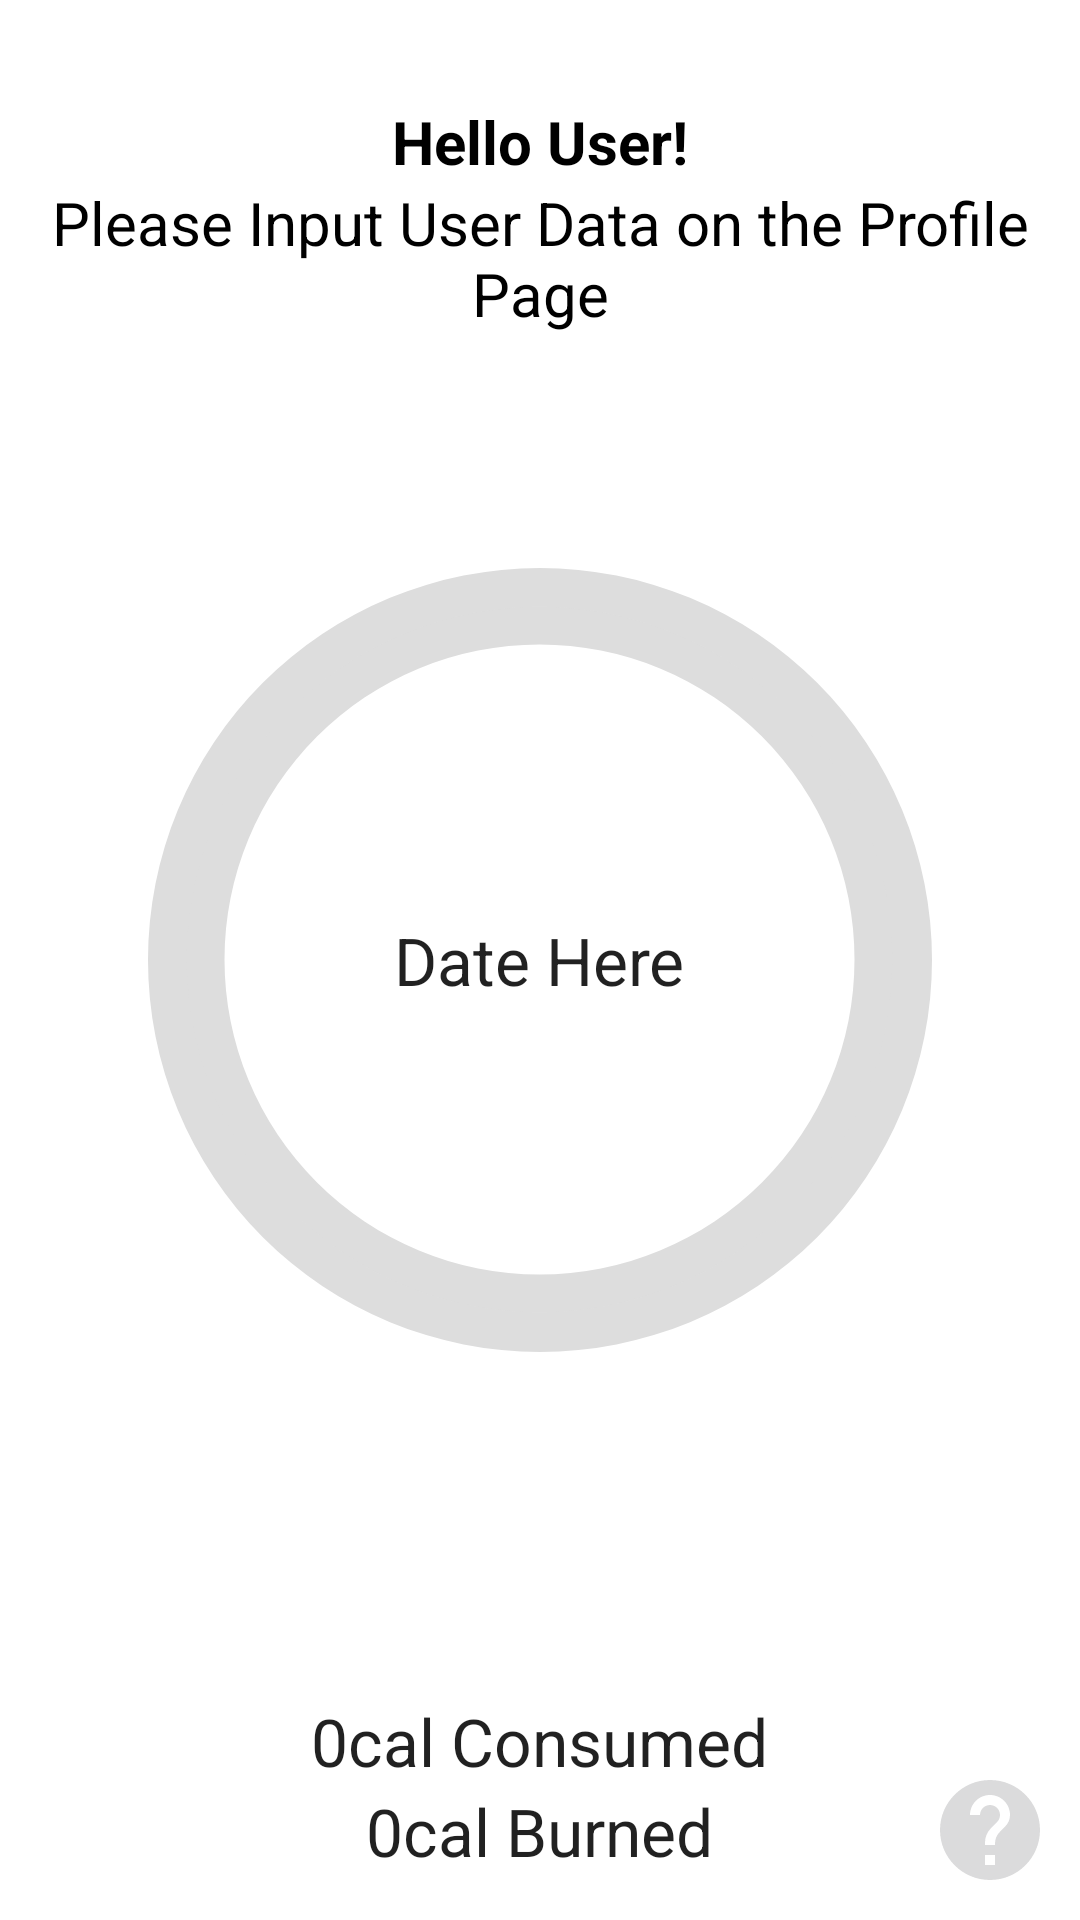

Named icons in this screenshot (1080w x 1920h) and their bounding boxes, bbox=(x1, y1, x2, y2):
help: bbox=(940, 1780, 1040, 1880)
